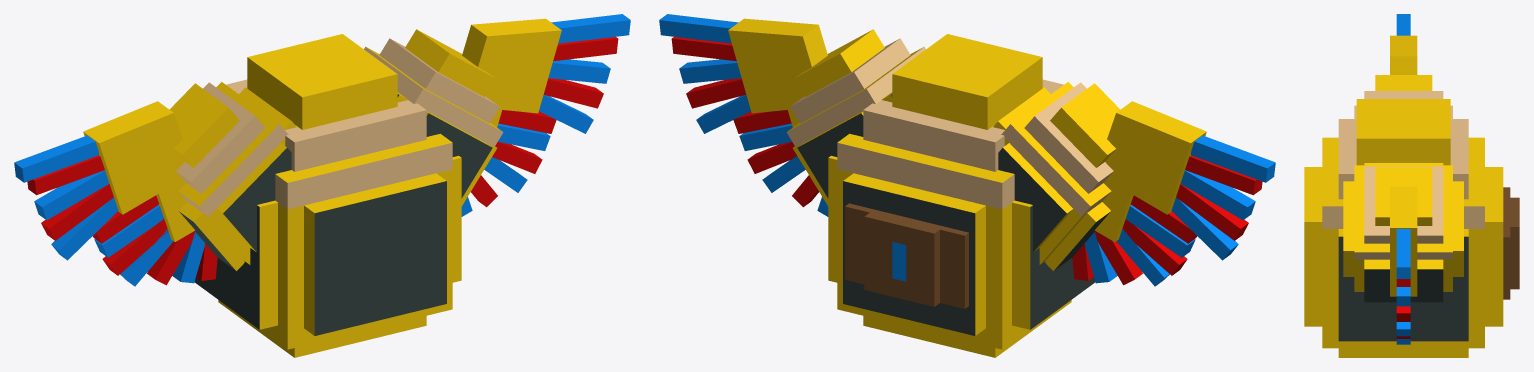
The model's file is 24.Royal Sphinx.fbx.
3 views of the same model, side by side, from view 1: azimuth 30°, elevation 25°; view 2: azimuth 150°, elevation 25°; view 3: azimuth 270°, elevation 25° (orthographic). The views are drawn at different scales.
Parts seen in each view (by area): view 1: Royal_Sphinx; view 2: Royal_Sphinx; view 3: Royal_Sphinx.
Part boxes in pixels (left/top/right/bottom): Royal_Sphinx: left=14, top=14, right=630, bottom=357; Royal_Sphinx: left=659, top=14, right=1275, bottom=357; Royal_Sphinx: left=1304, top=14, right=1519, bottom=357.
Size of the model in its own units: 8.69 by 3.39 by 3.13.
